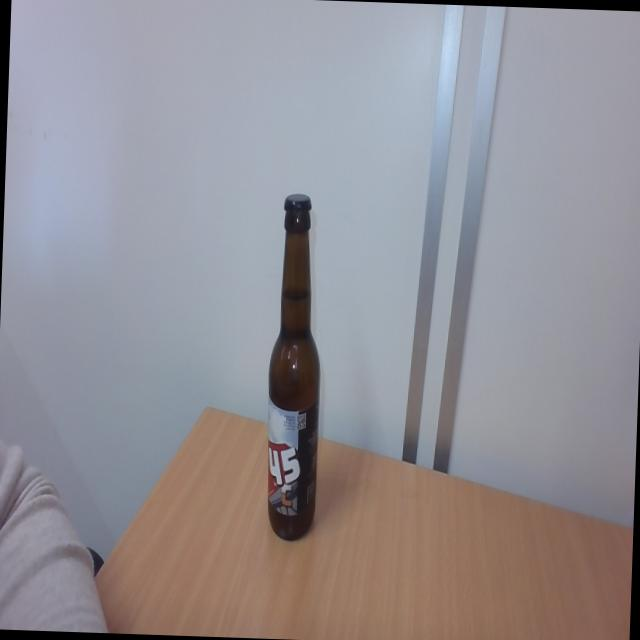Bottle: (262, 217, 328, 543)
Cap: (282, 192, 314, 218)
Label: (265, 398, 320, 520)
